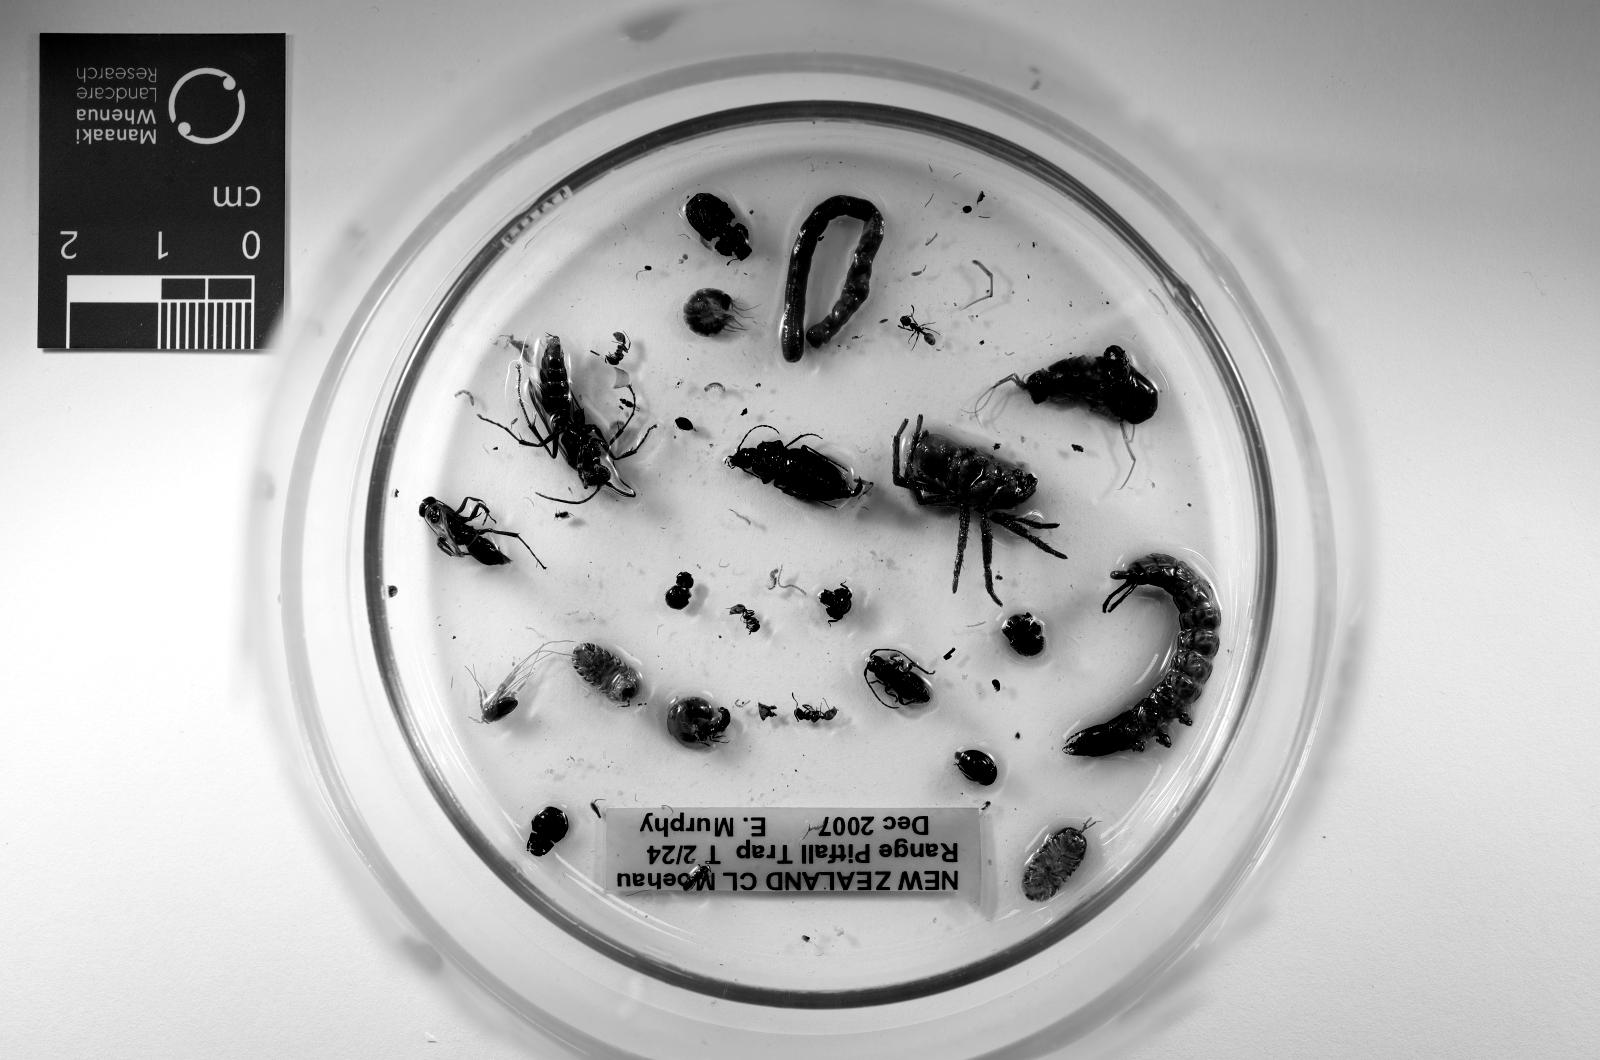amphipoda: (997, 357, 1157, 453), (685, 289, 734, 336)
annelida: (782, 195, 885, 363)
araneae: (894, 416, 1065, 606)
carabidae: (725, 441, 866, 500)
coleoptera: (685, 193, 750, 260), (866, 649, 931, 705), (525, 807, 569, 857), (957, 749, 997, 786), (666, 571, 694, 608), (675, 416, 694, 432)
coleoptera_larva: (1062, 552, 1222, 757)
collembola: (704, 382, 725, 394)
formicidae: (900, 314, 938, 344), (728, 606, 759, 634), (607, 332, 631, 367), (793, 705, 837, 724)
hymenoptera: (485, 336, 656, 506), (419, 497, 549, 571)
isopoda: (1022, 829, 1088, 900), (572, 642, 641, 705)
opiliones: (478, 646, 546, 724)
